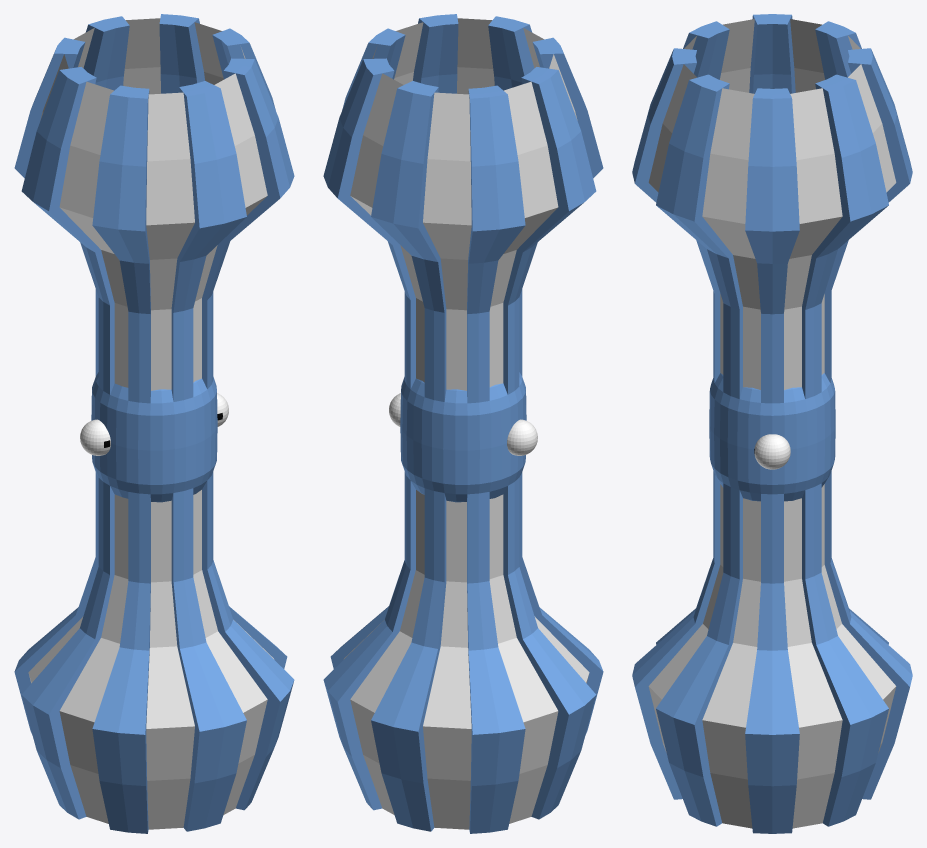
File: Squelsh.fbx
3 renders of one model, left to right at view 1: azimuth 30°, elevation 25°; view 2: azimuth 150°, elevation 25°; view 3: azimuth 270°, elevation 25°, orthographic.
Parts seen in each view (by area): view 1: Sphere, Sphere.002; view 2: Sphere, Sphere.002; view 3: Sphere, Sphere.001.
Boxes of the visible parts, x1,y1,x2,y2 form: Sphere: (14, 14, 294, 833); Sphere.002: (80, 419, 110, 455); Sphere: (323, 14, 603, 833); Sphere.002: (507, 419, 537, 455); Sphere: (632, 14, 912, 833); Sphere.001: (754, 434, 790, 469).
Bounding box in the file's own units: 439 × 1270 × 439.
